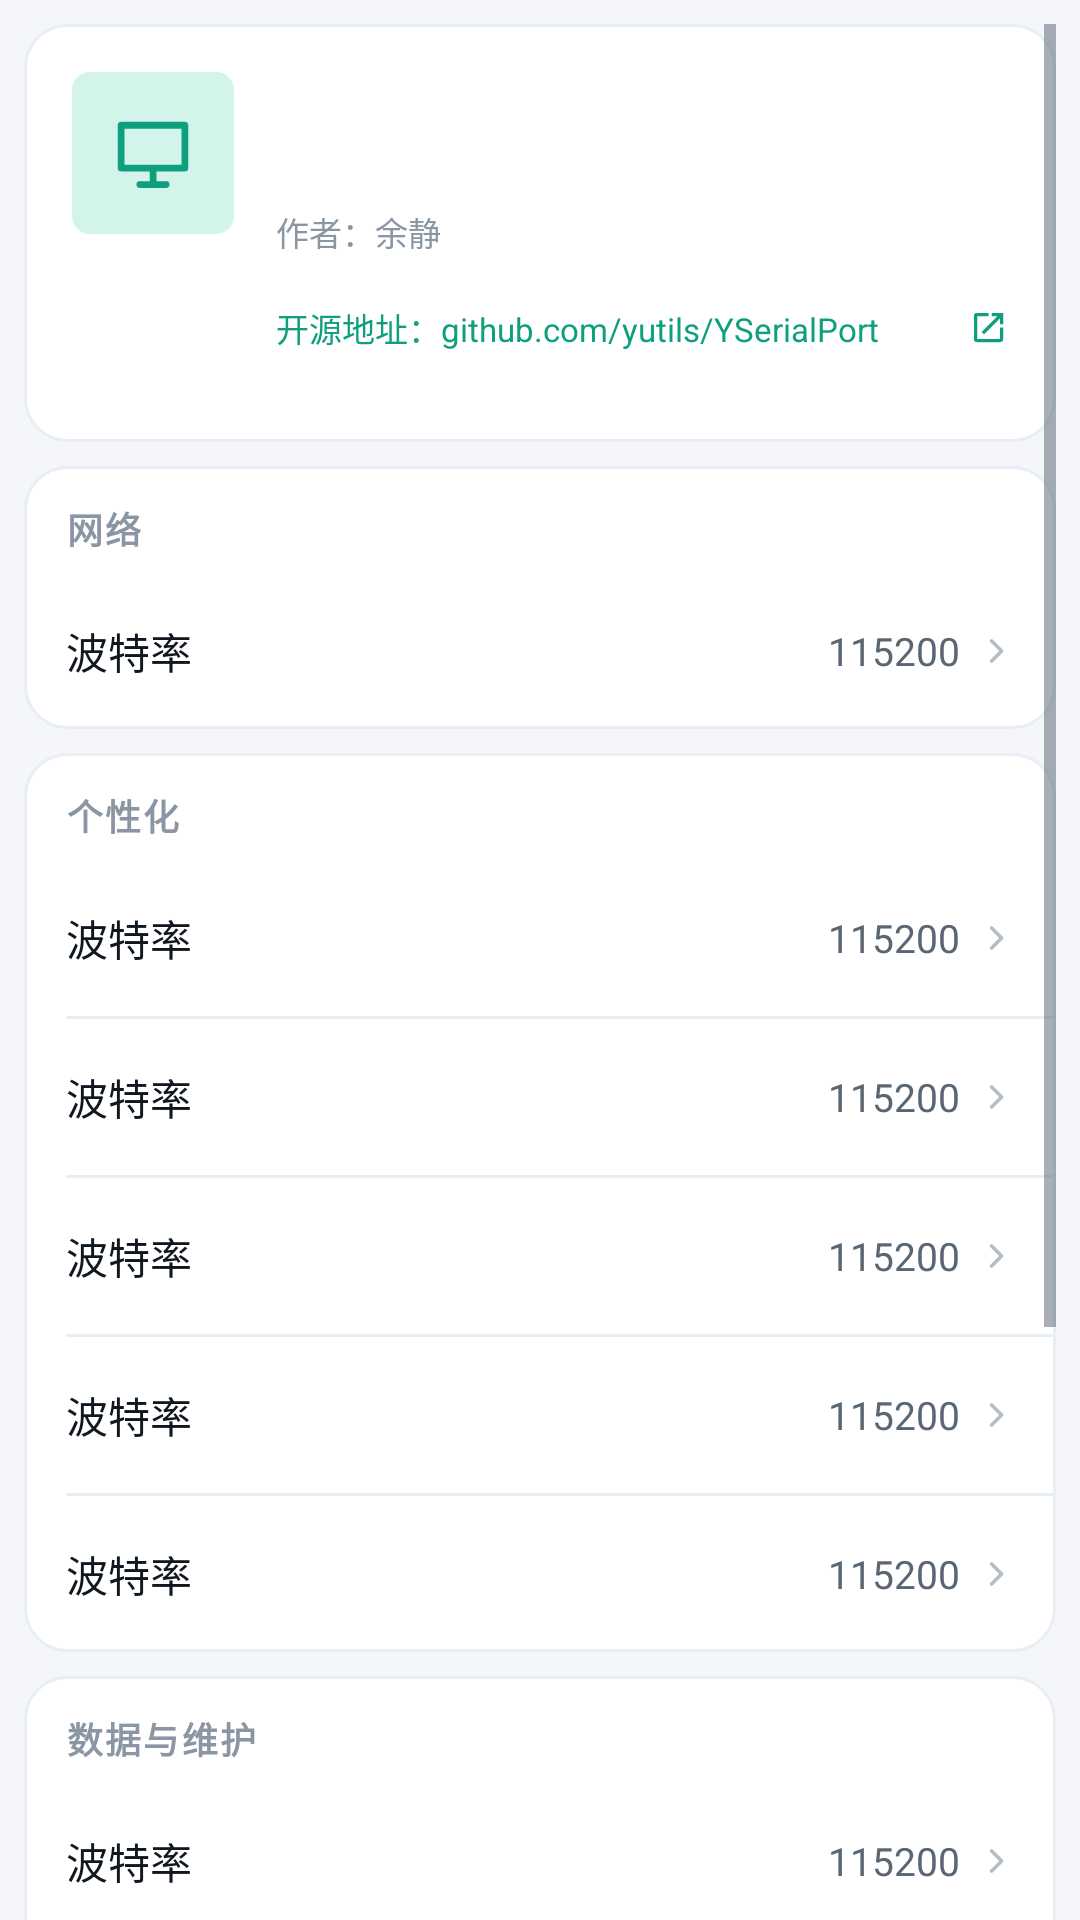

Icon click points for this 1080 x 1920 phone screenshot, format point (x, y):
chevron right: point (996, 651), point (996, 938), point (996, 1097), point (996, 1256), point (996, 1415), point (996, 1574), point (996, 1861)
monitor: point (153, 154)
open in: point (989, 328)
